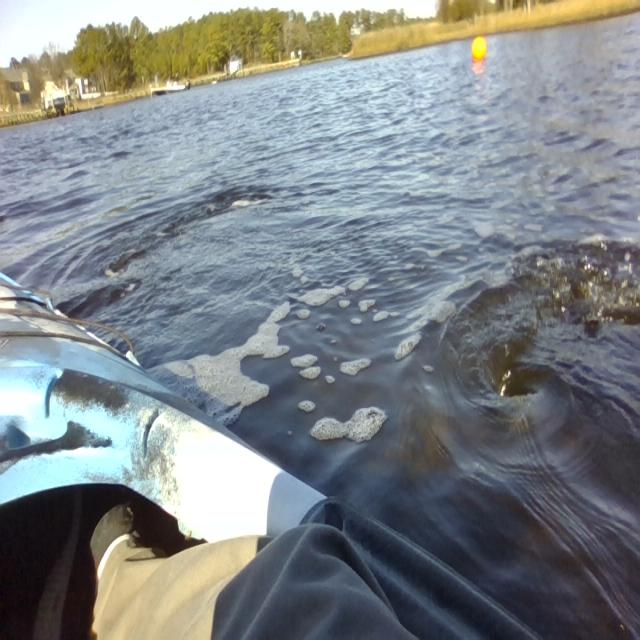Buoy: (468, 30, 490, 70)
